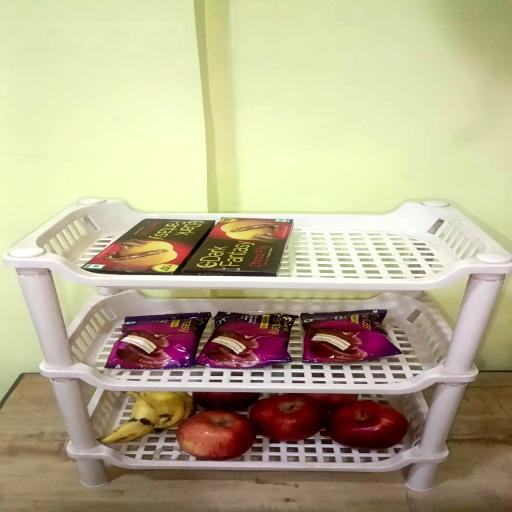Apple: (326, 400, 408, 448), (179, 410, 257, 459), (251, 394, 328, 441), (192, 392, 260, 411), (296, 393, 359, 412)
Choco Fills: (81, 220, 215, 276), (184, 220, 294, 277)
Choco Pie: (105, 313, 208, 370), (199, 312, 297, 370), (302, 311, 402, 364)
